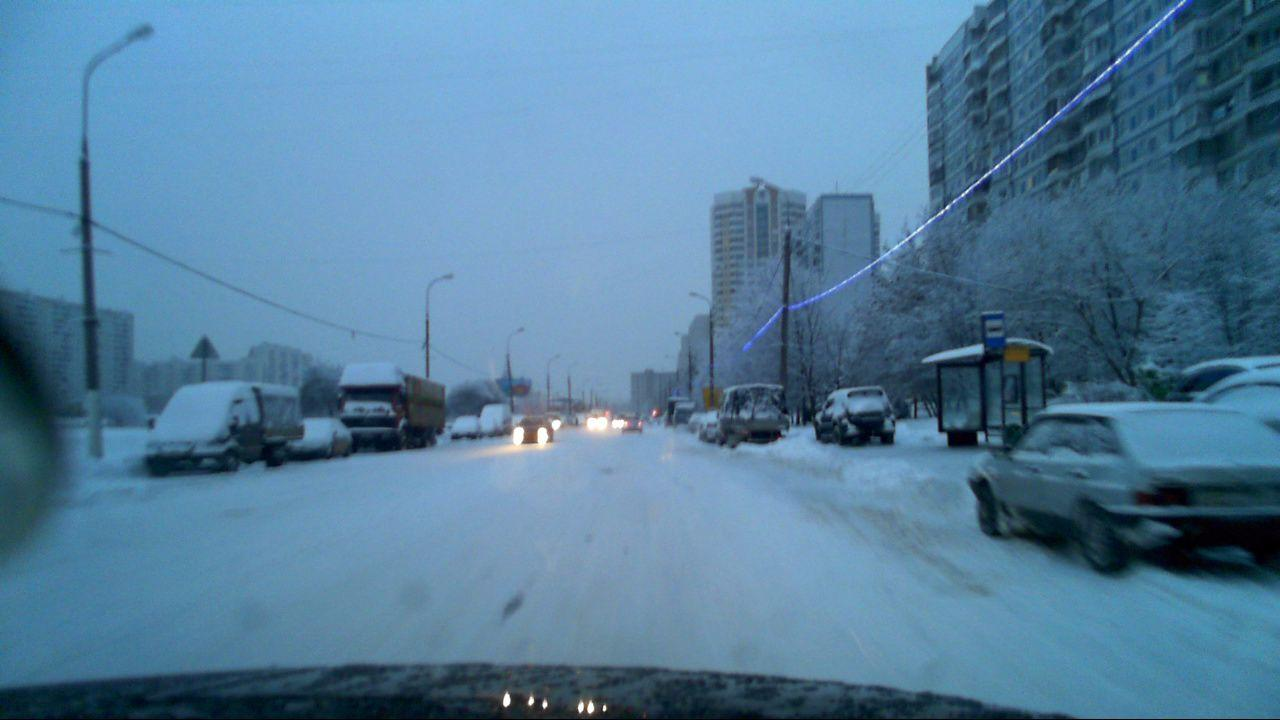5_16: (980, 305, 1010, 352)
